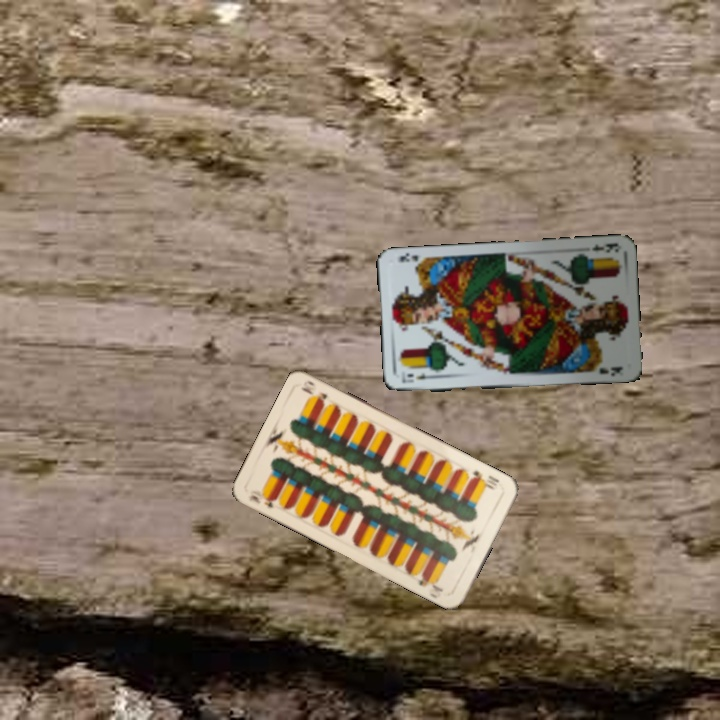E10: (467, 466, 502, 492), (244, 491, 279, 511)
EK: (398, 370, 439, 386), (588, 239, 620, 255)
